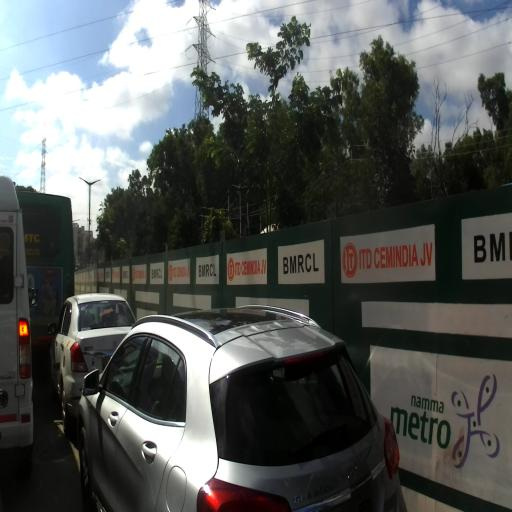street_light_0: (79, 177, 91, 188), (89, 179, 100, 188), (71, 218, 80, 222)
